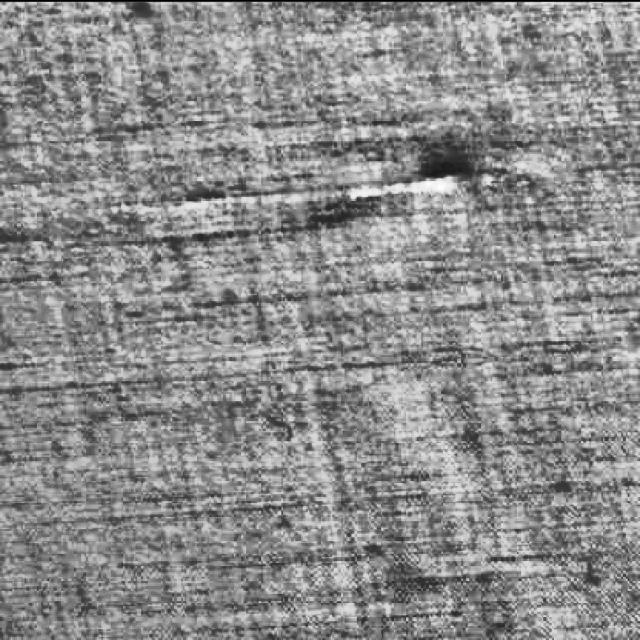thread_error: (94, 156, 536, 236)
